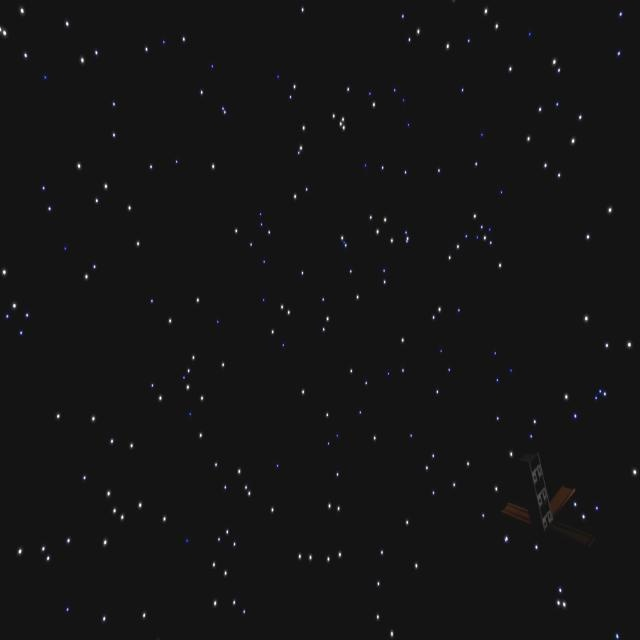medium_debris: (487, 455, 577, 532)
